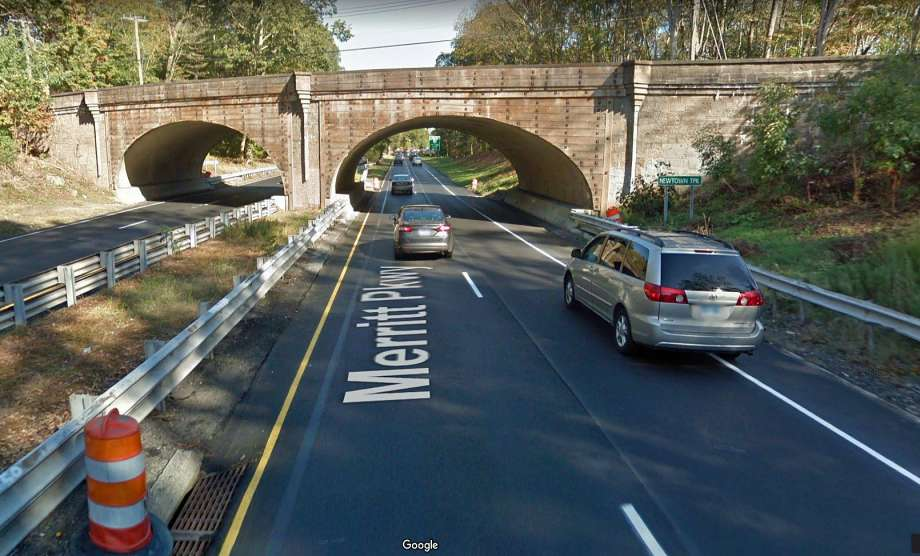bridge: (22, 57, 889, 221)
